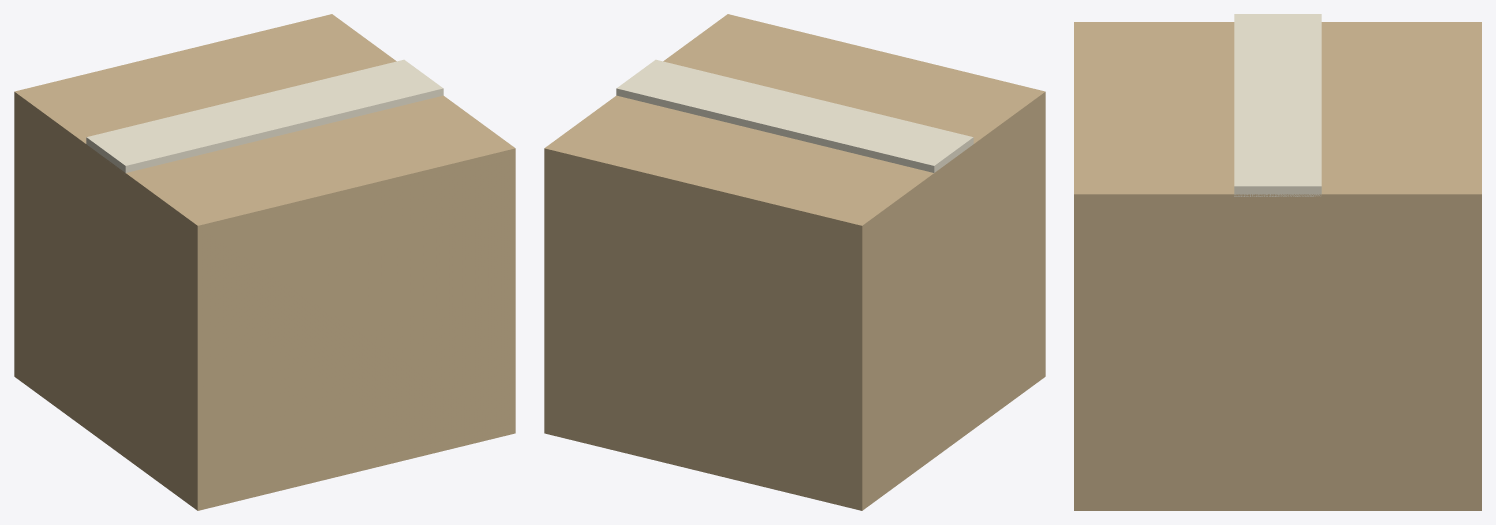
3 views of the same model, side by side, from view 1: azimuth 30°, elevation 25°; view 2: azimuth 150°, elevation 25°; view 3: azimuth 270°, elevation 25° (orthographic). The views are drawn at different scales.
Parts seen in each view (by area): view 1: box_body, box_tape; view 2: box_body, box_tape; view 3: box_body, box_tape.
Part boxes in pixels (<box>): box_body: <box>14,14,515,510</box>; box_tape: <box>86,59,443,174</box>; box_body: <box>544,14,1045,510</box>; box_tape: <box>616,59,973,172</box>; box_body: <box>1074,22,1481,510</box>; box_tape: <box>1234,14,1321,196</box>.
Size of the model in its own units: 0.14 by 0.123 by 0.14.
